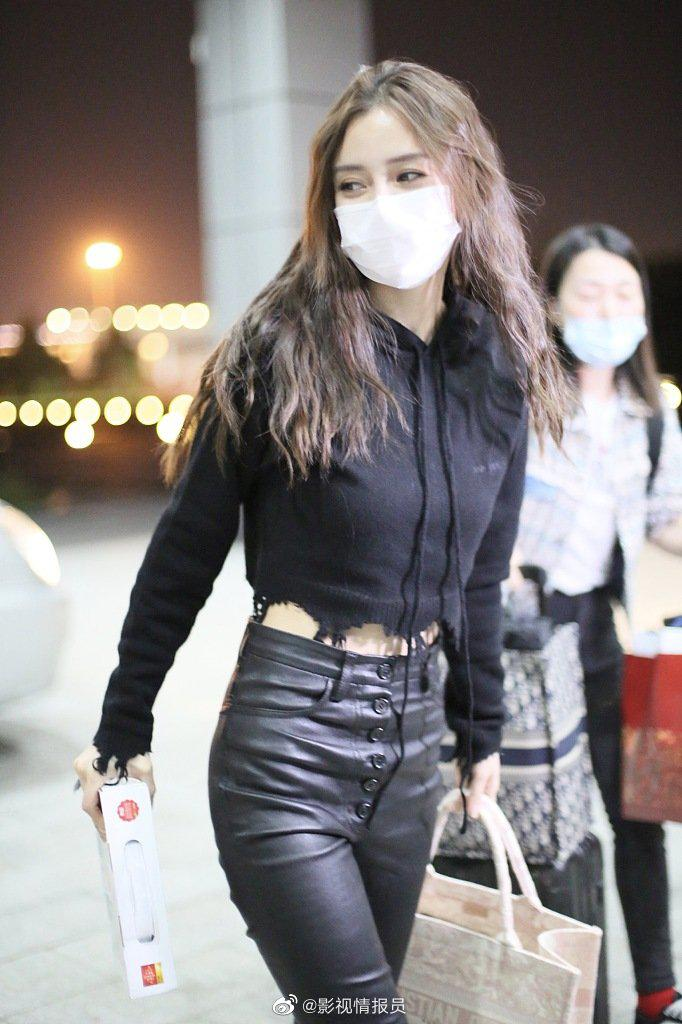OK: (335, 134, 456, 289)
WRONG: (556, 269, 648, 367)
